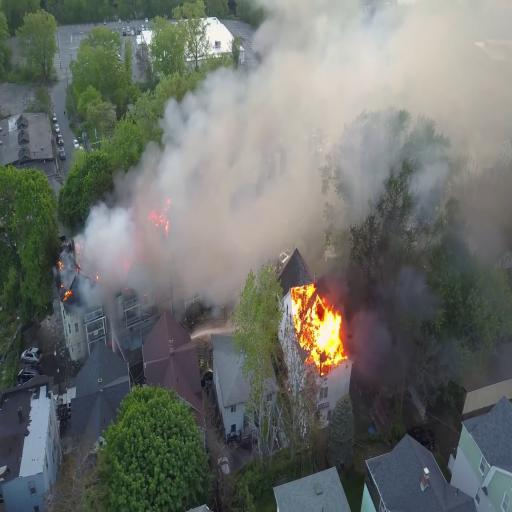fire: (288, 287, 338, 377)
